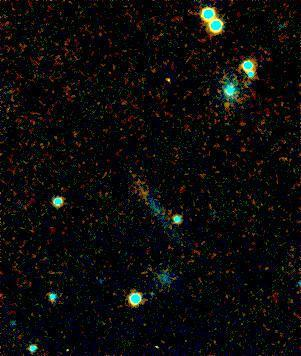star: (149, 66, 179, 96)
